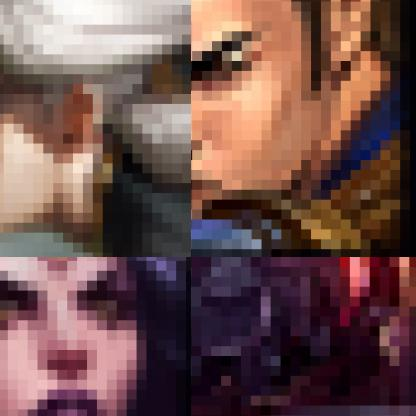Camille: (0, 0, 190, 256)
Leblanc: (0, 257, 190, 415)
Sion: (191, 257, 415, 415)
Xin Zhao: (191, 0, 415, 256)
